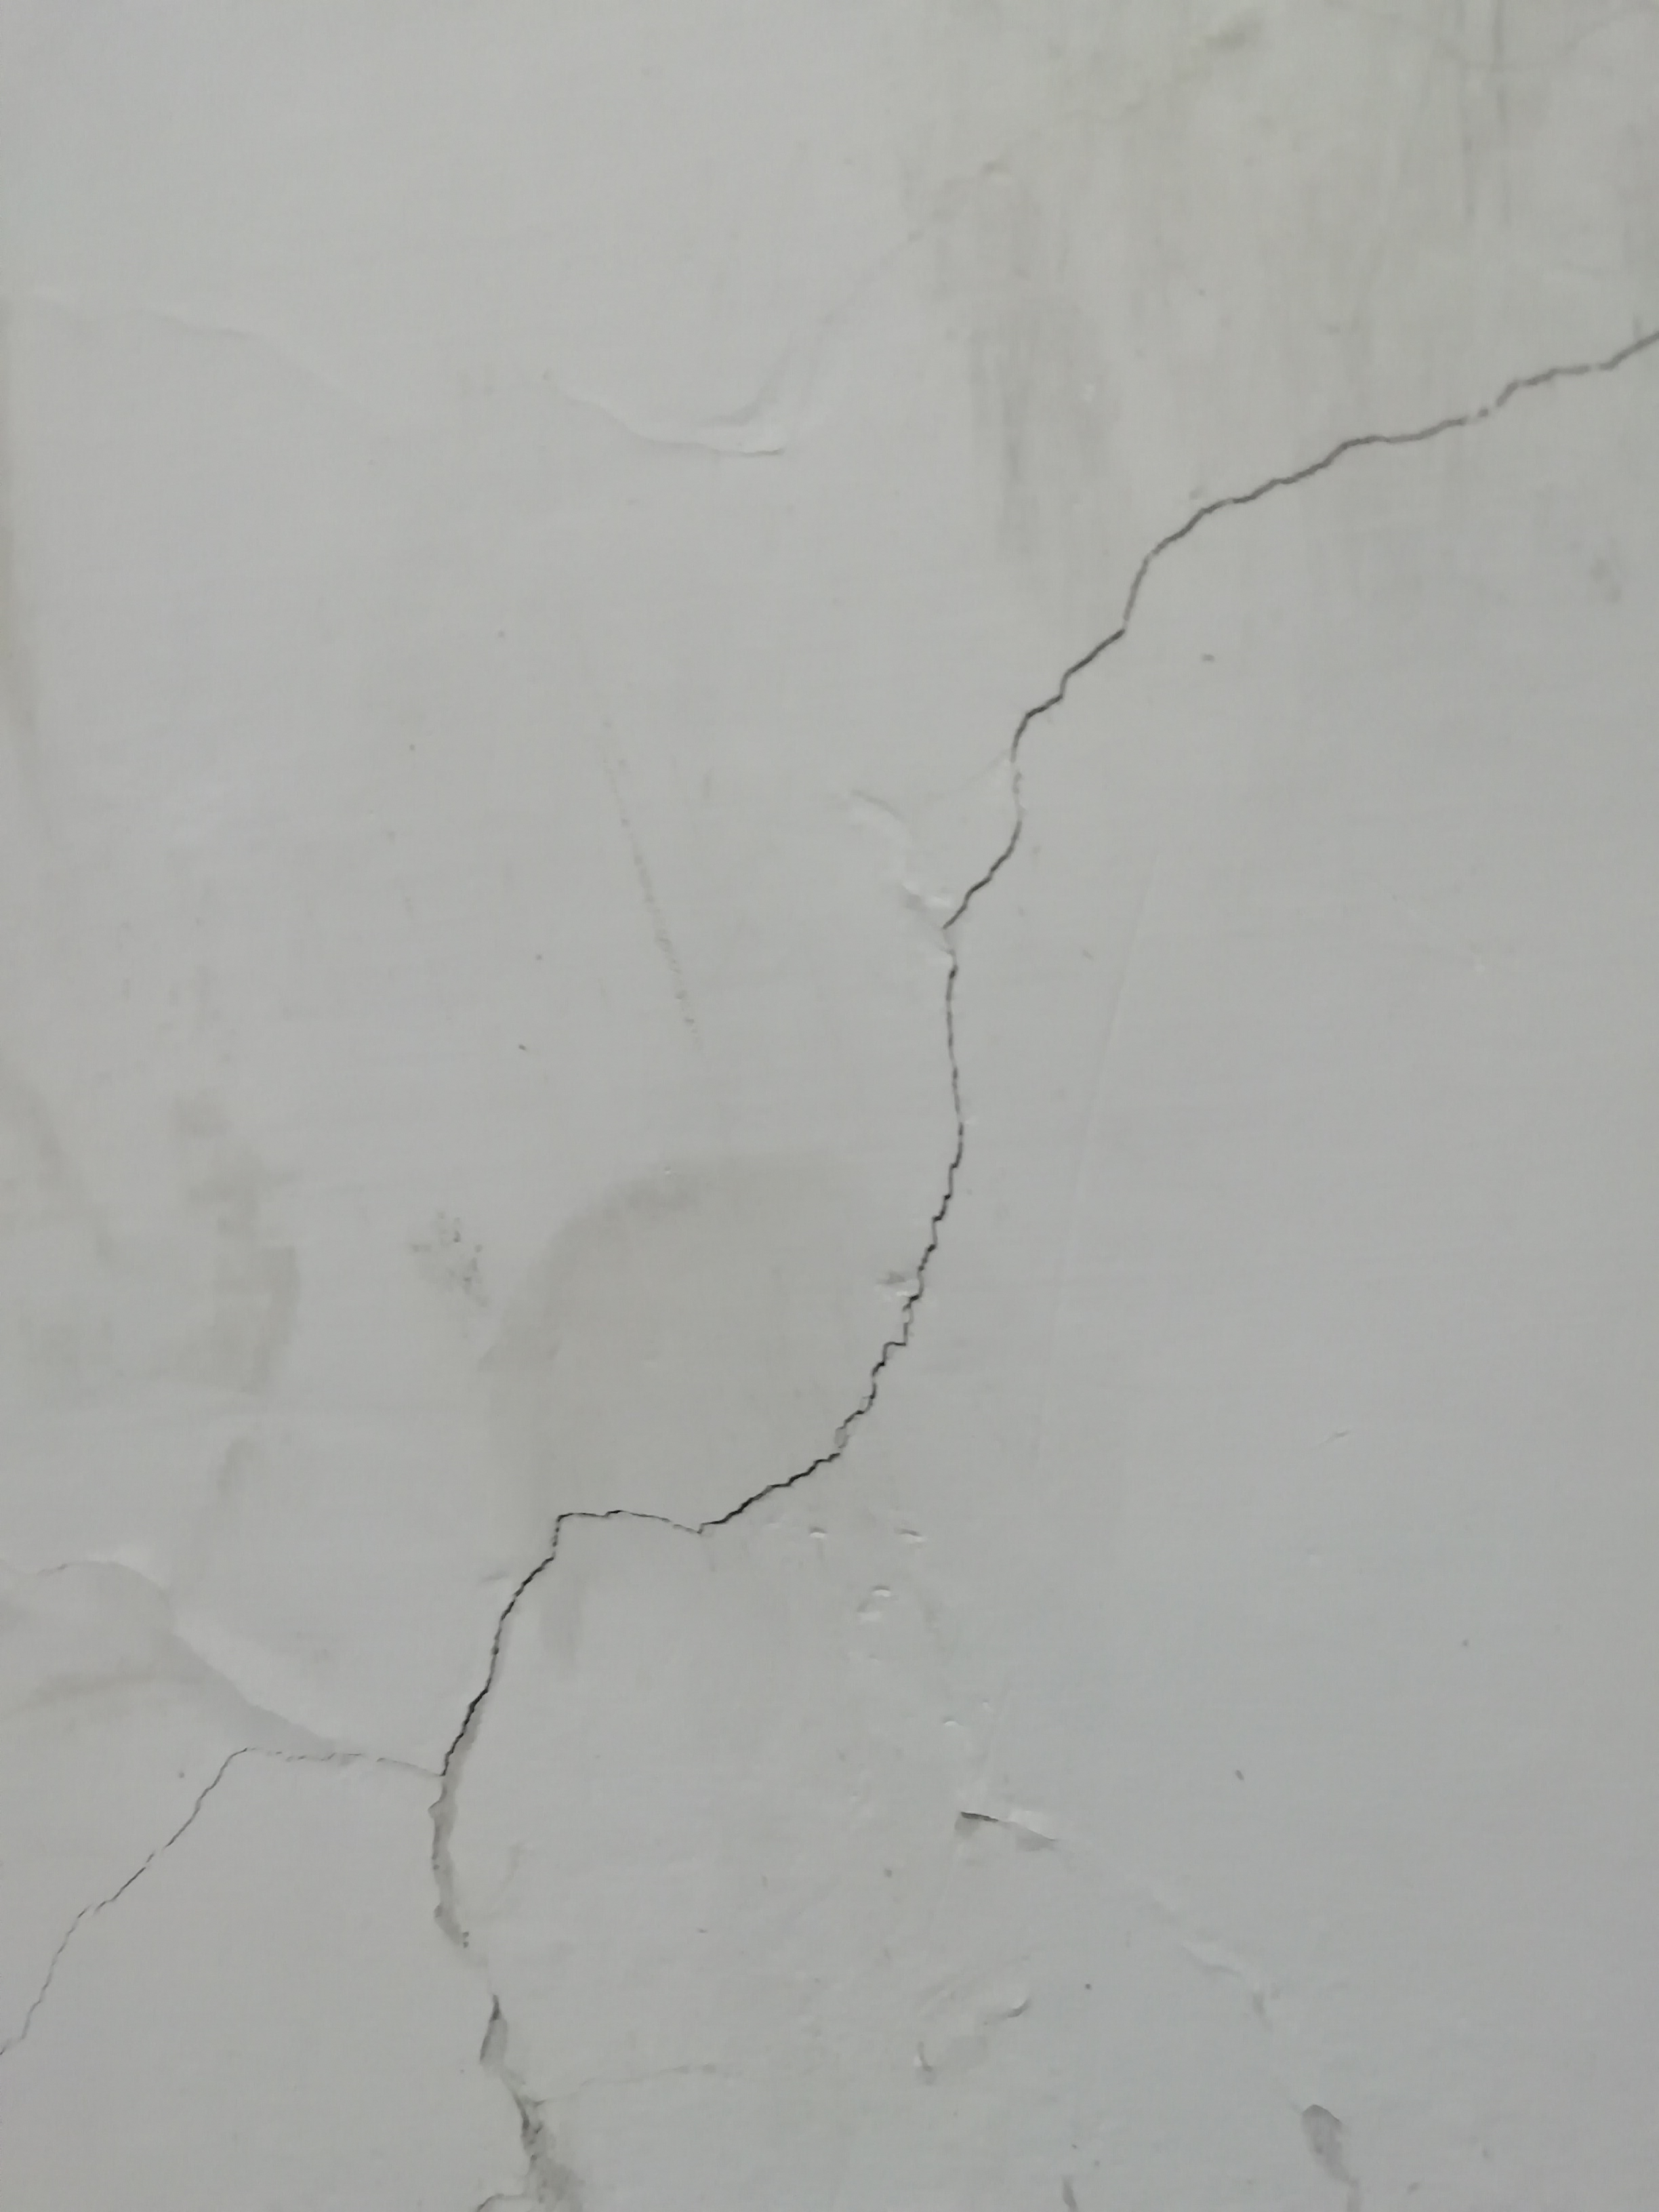Crack: (946, 320, 1642, 939), (589, 953, 978, 1555), (403, 1503, 586, 1806)
